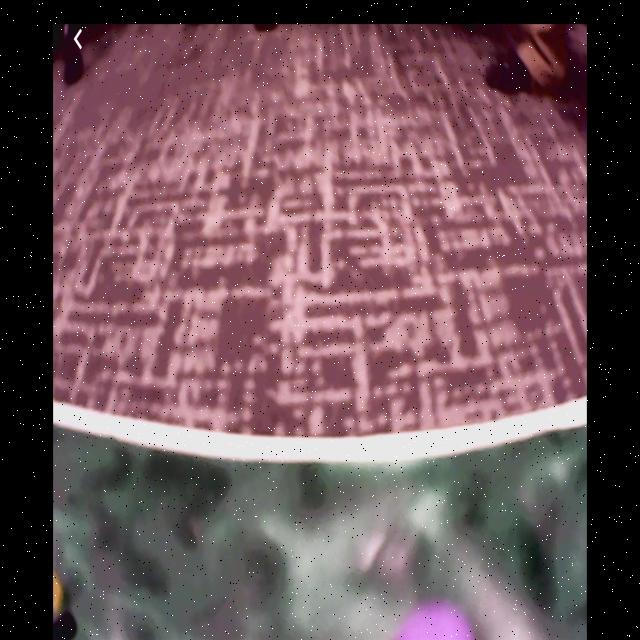ball: (399, 605, 472, 640)
